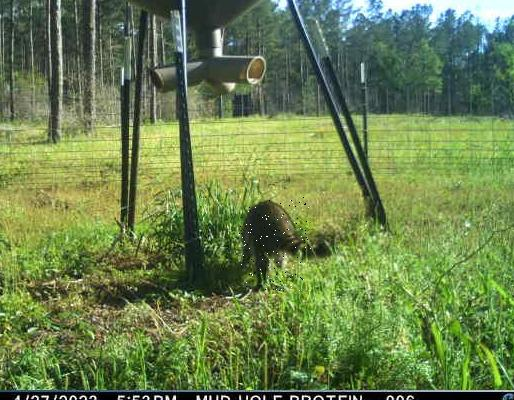Raccoon: (239, 197, 311, 291)
